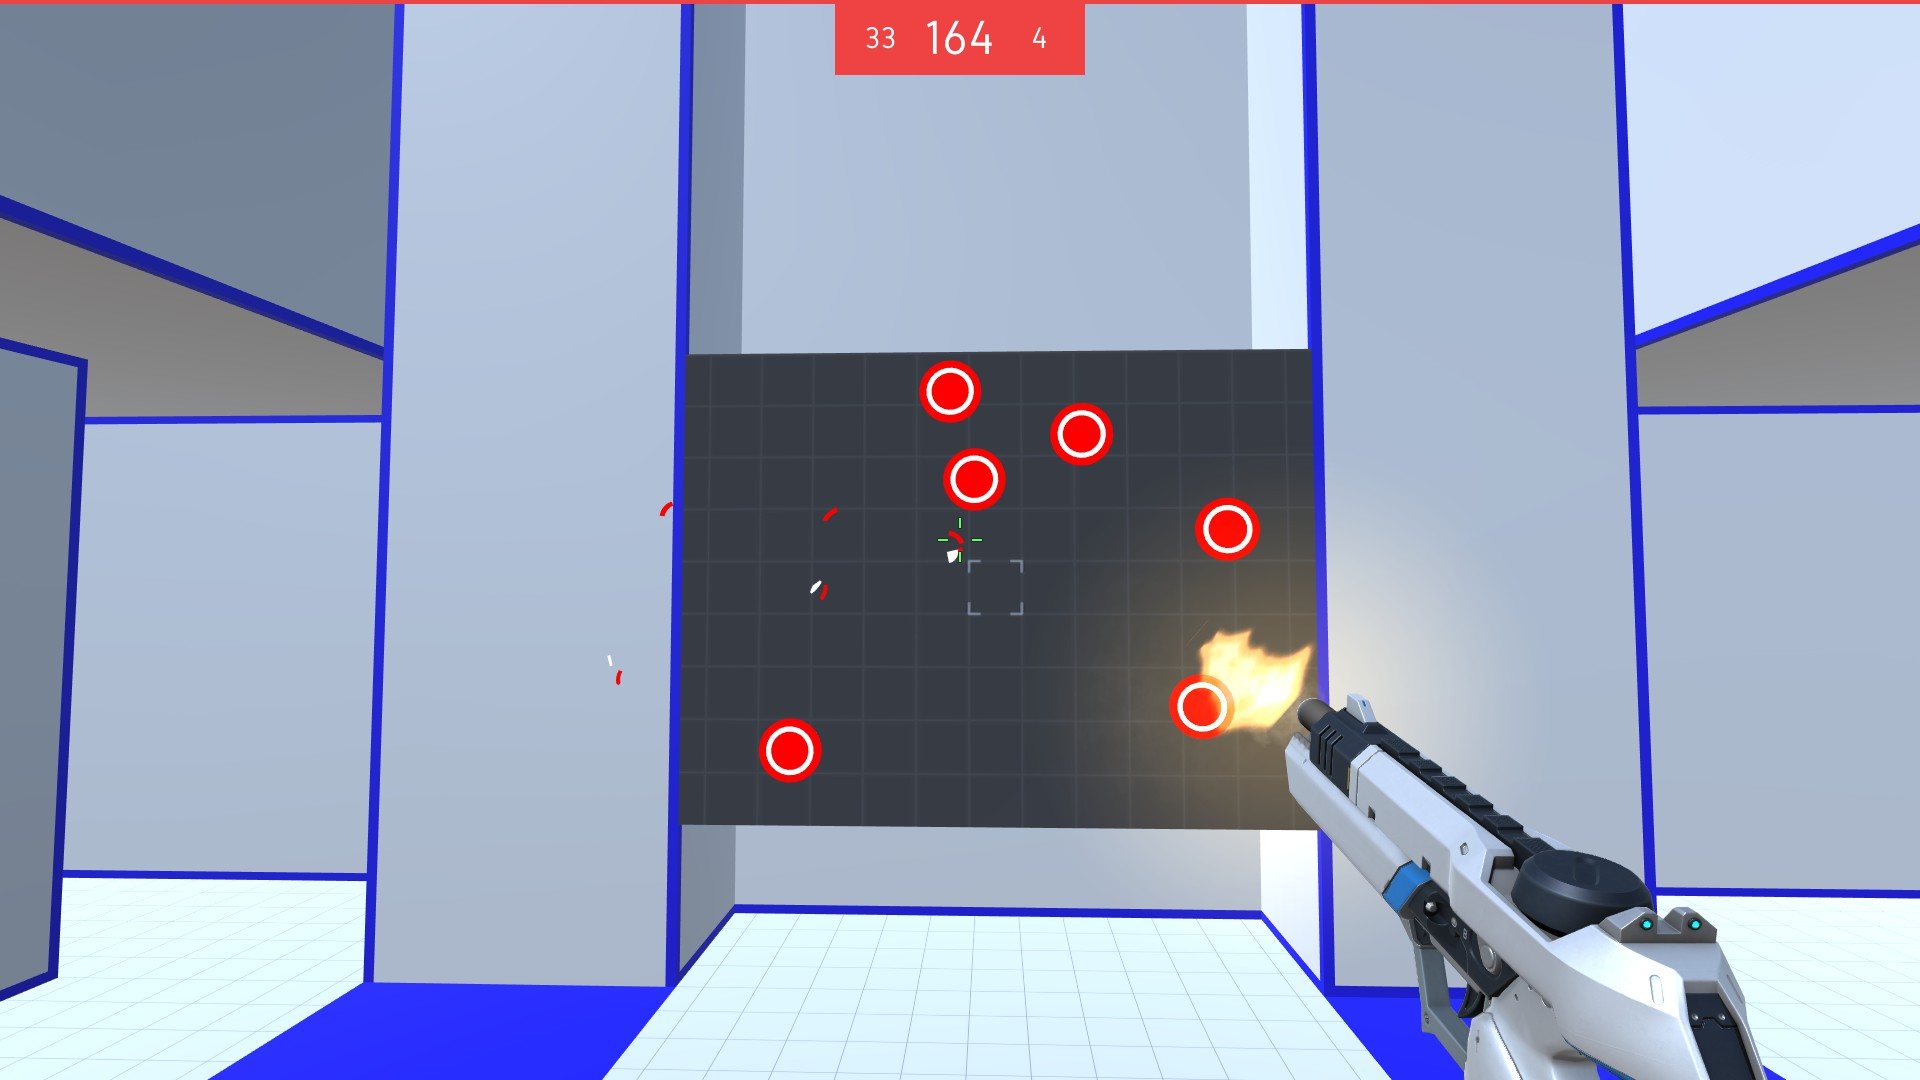target: (914, 357, 986, 429), (756, 715, 825, 789), (1167, 671, 1240, 741), (1044, 401, 1116, 469), (1193, 495, 1265, 562), (942, 447, 1007, 516)
